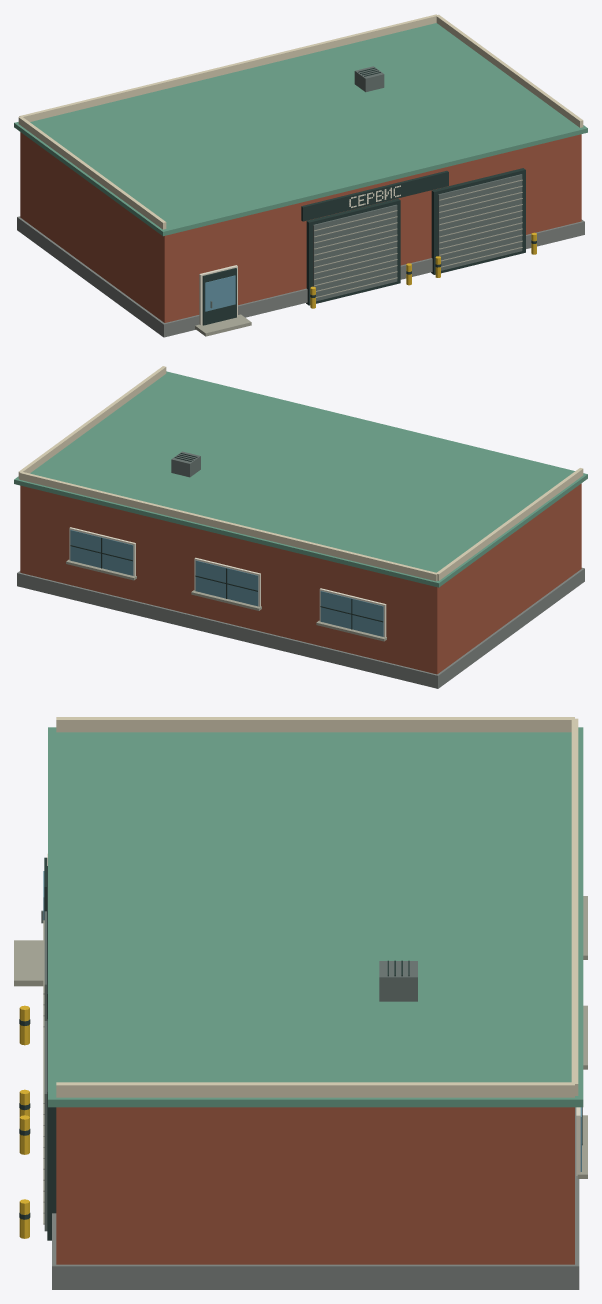
Rendered from AutoWorkshop.obj.
3 views of the same model, one above another, from view 1: azimuth 30°, elevation 25°; view 2: azimuth 150°, elevation 25°; view 3: azimuth 270°, elevation 25° (orthographic). The views are drawn at different scales.
Visible parts, largest first — view 1: AutoWorkshop; view 2: AutoWorkshop; view 3: AutoWorkshop.
Boxes of the visible parts, bbox=[...] form: AutoWorkshop: bbox=[14, 14, 587, 337]; AutoWorkshop: bbox=[14, 366, 587, 688]; AutoWorkshop: bbox=[14, 717, 587, 1289].
Size of the model in its own units: 20.38 by 5.66 by 13.28.
1 material, 1 textured.
